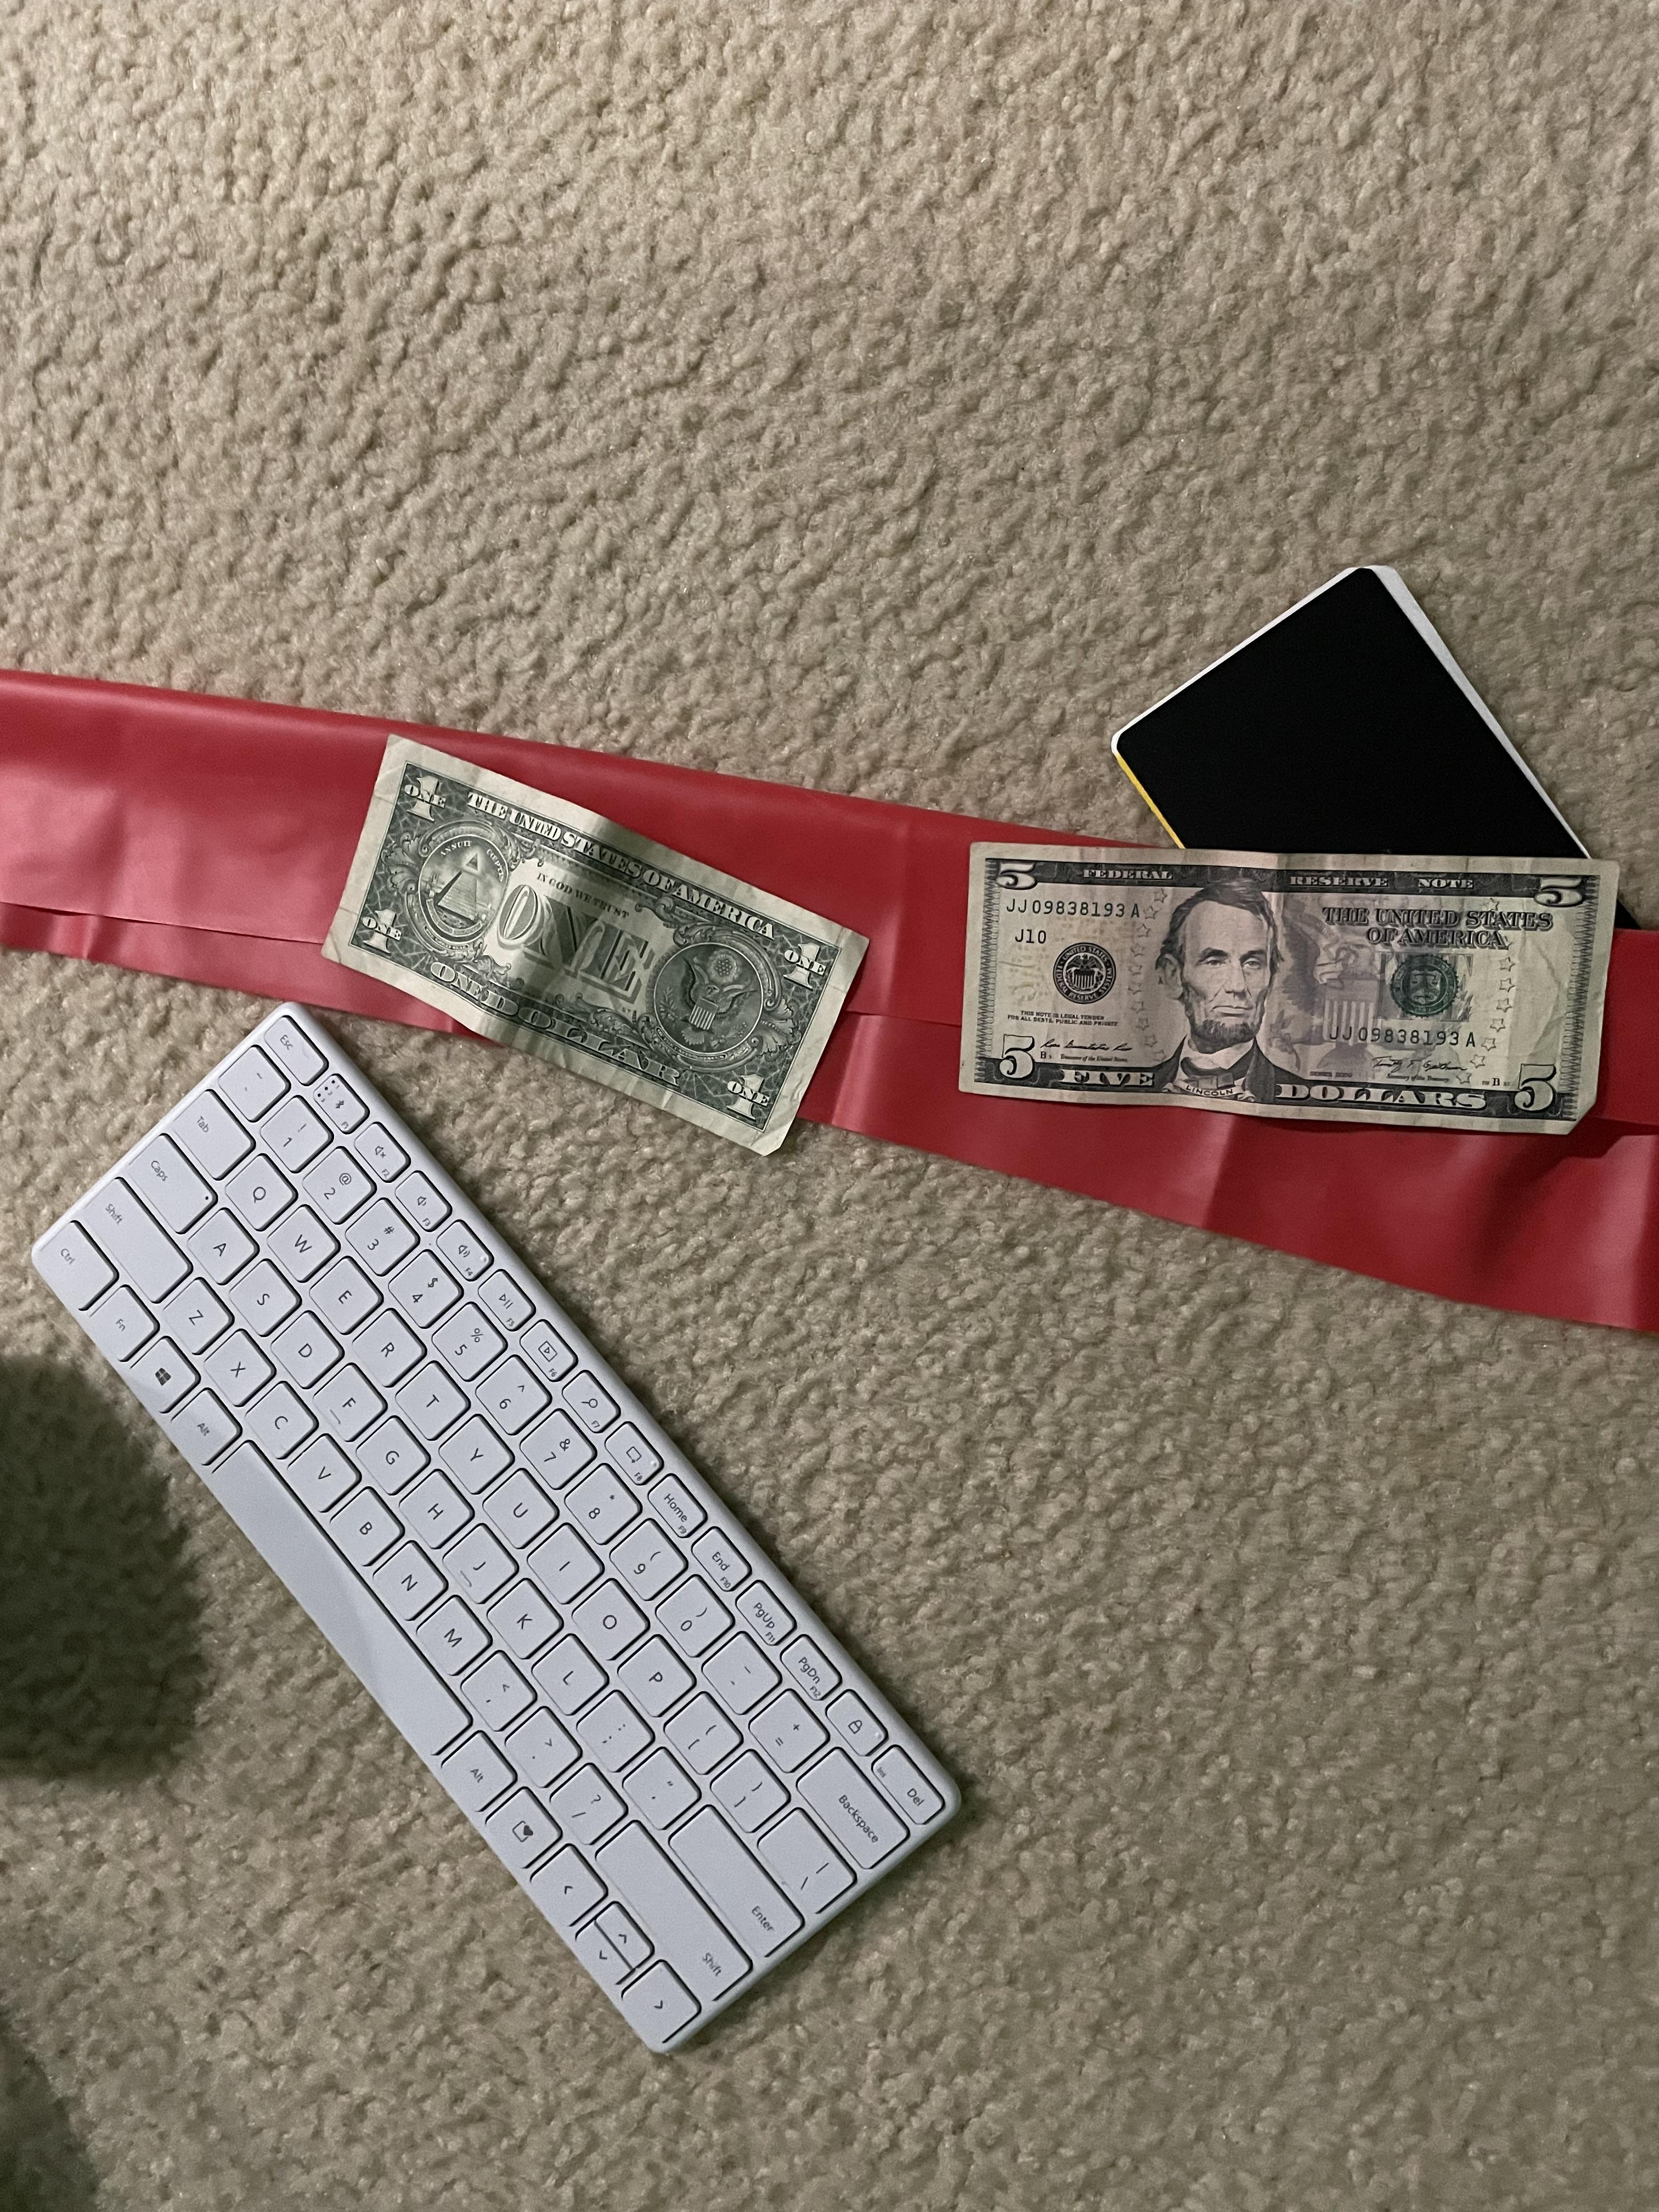FiveBill: (943, 840, 1629, 1137)
OneBill: (321, 730, 882, 1172)
